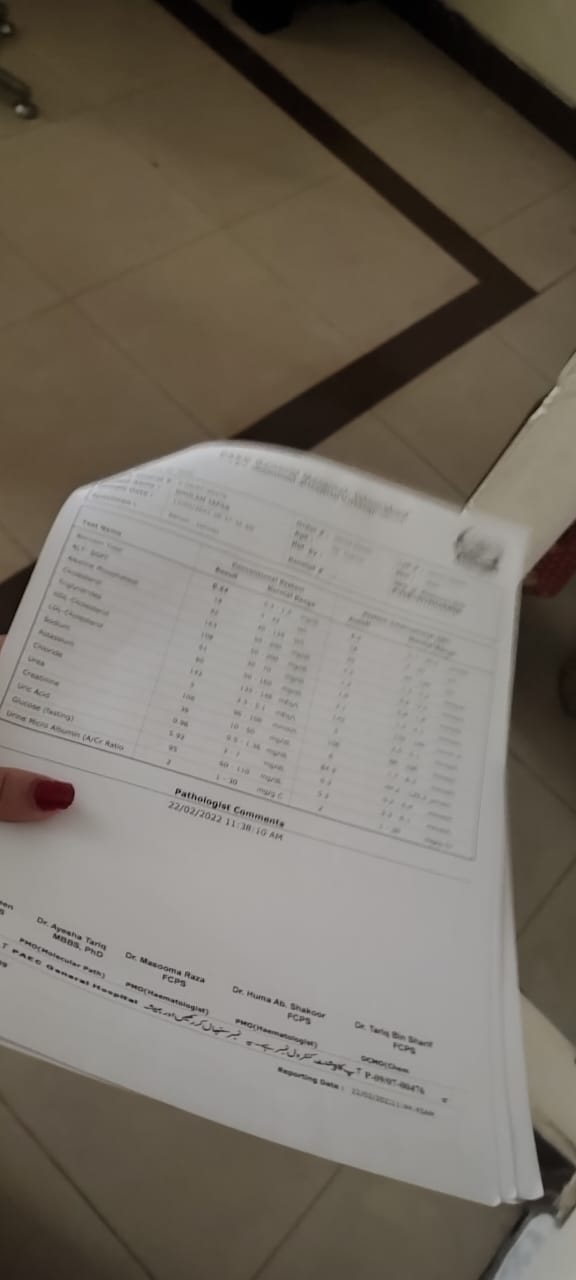report: (6, 506, 503, 866)
